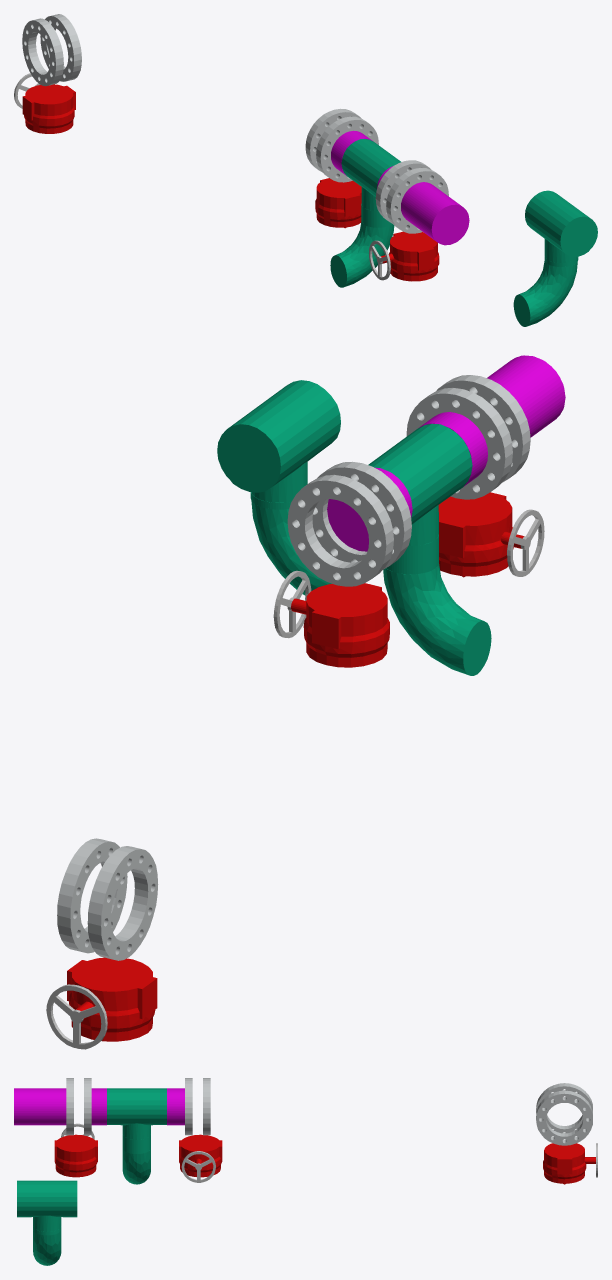
3 renders of one model, top to bottom at view 1: azimuth 30°, elevation 25°; view 2: azimuth 150°, elevation 25°; view 3: azimuth 270°, elevation 25°, orthographic. The views are drawn at different scales.
Size of the model in its own units: 1.44 by 0.9336 by 3.47.
